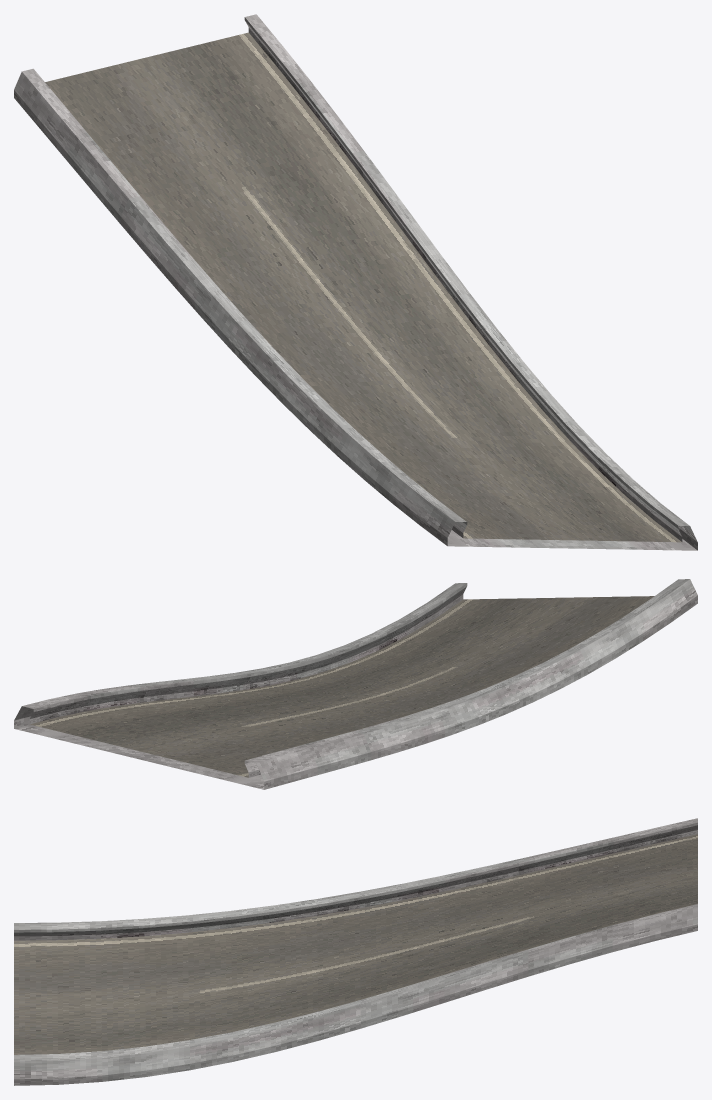
File: road-Straight-HalfBankedRight-BiSlopeUp-Up3-Center-Size3.glb
3 views of the same model, one above another, from view 1: azimuth 30°, elevation 25°; view 2: azimuth 150°, elevation 25°; view 3: azimuth 270°, elevation 25° (orthographic). The views are drawn at different scales.
Parts seen in each view (by area): view 1: road-Straight-HalfBankedRight-BiSlopeUp-Up3-Center-Size3; view 2: road-Straight-HalfBankedRight-BiSlopeUp-Up3-Center-Size3; view 3: road-Straight-HalfBankedRight-BiSlopeUp-Up3-Center-Size3.
Part boxes in pixels (box(x1,y1,x2,y2)): road-Straight-HalfBankedRight-BiSlopeUp-Up3-Center-Size3: box(14, 14, 697, 550); road-Straight-HalfBankedRight-BiSlopeUp-Up3-Center-Size3: box(14, 579, 697, 789); road-Straight-HalfBankedRight-BiSlopeUp-Up3-Center-Size3: box(14, 818, 697, 1085).
Bounding box in the file's own units: 1 × 0.8437 × 3.
Materials: 2 (2 with a texture image).
